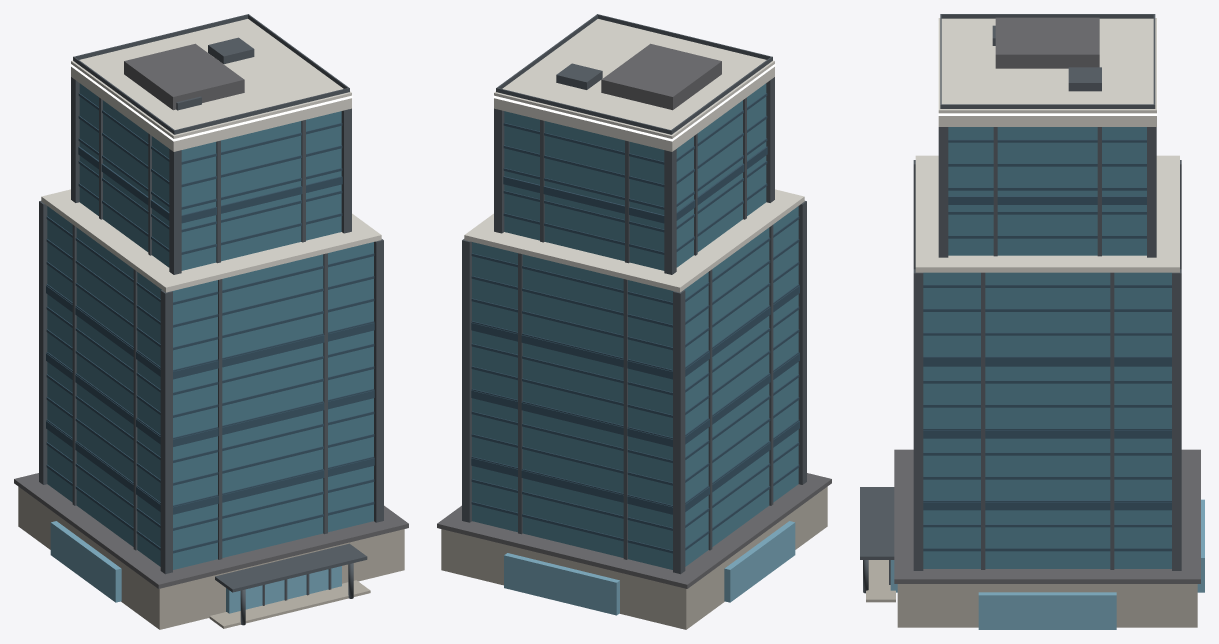
Rendered from office_tower_mid.glb.
3 views of the same model, side by side, from view 1: azimuth 30°, elevation 25°; view 2: azimuth 150°, elevation 25°; view 3: azimuth 270°, elevation 25° (orthographic). The views are drawn at different scales.
Parts seen in each view (by area): view 1: Merged_TowerGlass, Merged_TowerMetal, Merged_TowerSpandrel, Merged_TowerTrim, Merged_RoofDark, Merged_TowerStone, Merged_FacadeGlass, office_crown_light0320; view 2: Merged_TowerGlass, Merged_TowerSpandrel, Merged_TowerMetal, Merged_TowerTrim, Merged_RoofDark, Merged_TowerStone, Merged_FacadeGlass, office_crown_light0320; view 3: Merged_TowerGlass, Merged_TowerTrim, Merged_TowerSpandrel, Merged_TowerMetal, Merged_RoofDark, Merged_TowerStone, Merged_FacadeGlass, office_crown_light0320.
Boxes of the visible parts, <box> form: Merged_TowerGlass: <box>47,83,373,569</box>; Merged_TowerMetal: <box>39,14,383,625</box>; Merged_TowerSpandrel: <box>46,93,374,553</box>; Merged_TowerTrim: <box>41,19,381,292</box>; Merged_RoofDark: <box>14,43,408,588</box>; Merged_TowerStone: <box>18,486,404,629</box>; Merged_FacadeGlass: <box>50,521,341,613</box>; office_crown_light0320: <box>70,63,352,141</box>; Merged_TowerGlass: <box>472,83,798,569</box>; Merged_TowerSpandrel: <box>471,93,799,553</box>; Merged_TowerMetal: <box>462,14,806,574</box>; Merged_TowerTrim: <box>464,19,804,292</box>; Merged_RoofDark: <box>437,43,831,588</box>; Merged_TowerStone: <box>441,486,827,629</box>; Merged_FacadeGlass: <box>504,521,795,615</box>; office_crown_light0320: <box>493,63,775,141</box>; Merged_TowerGlass: <box>923,127,1171,568</box>; Merged_TowerTrim: <box>915,18,1179,272</box>; Merged_TowerSpandrel: <box>923,139,1171,551</box>; Merged_TowerMetal: <box>860,14,1181,593</box>; Merged_RoofDark: <box>894,17,1200,583</box>; Merged_TowerStone: <box>866,560,1197,627</box>; Merged_FacadeGlass: <box>890,499,1204,629</box>; office_crown_light0320: <box>938,21,1157,115</box>.
Size of the model in its own units: 37.7 by 68.05 by 41.35.
